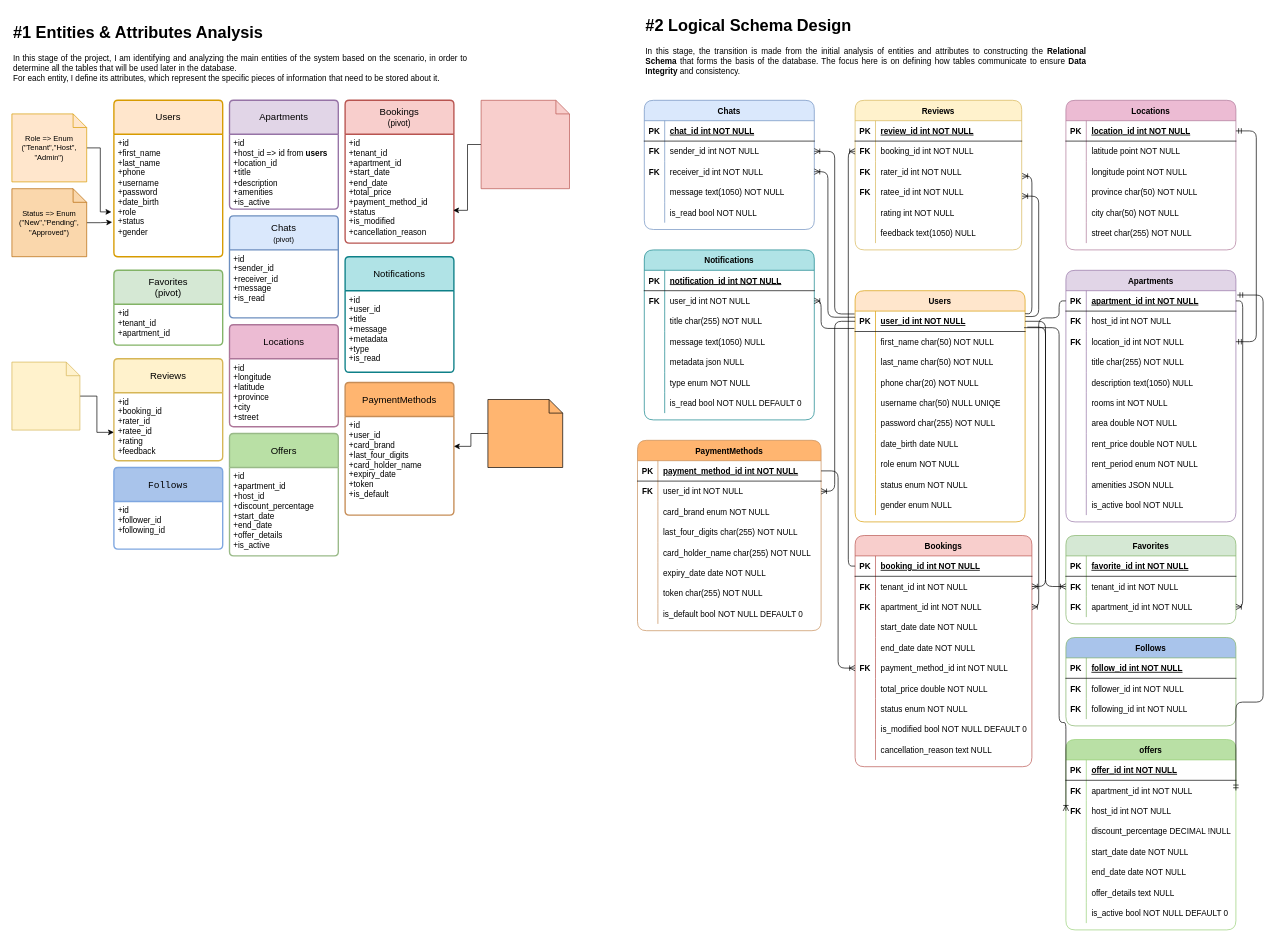
This 1281x942 diagram has some shape labels left out. Each missing label, with the centre of its shape:
card_brand( "VISA", "MASTERCARD"): pixel 525 433
Enum( "Tenant", "Host"): pixel 45 395
status => Enum( "Pending", "Approved", "Rejected", "Cancelled"): pixel 525 144
